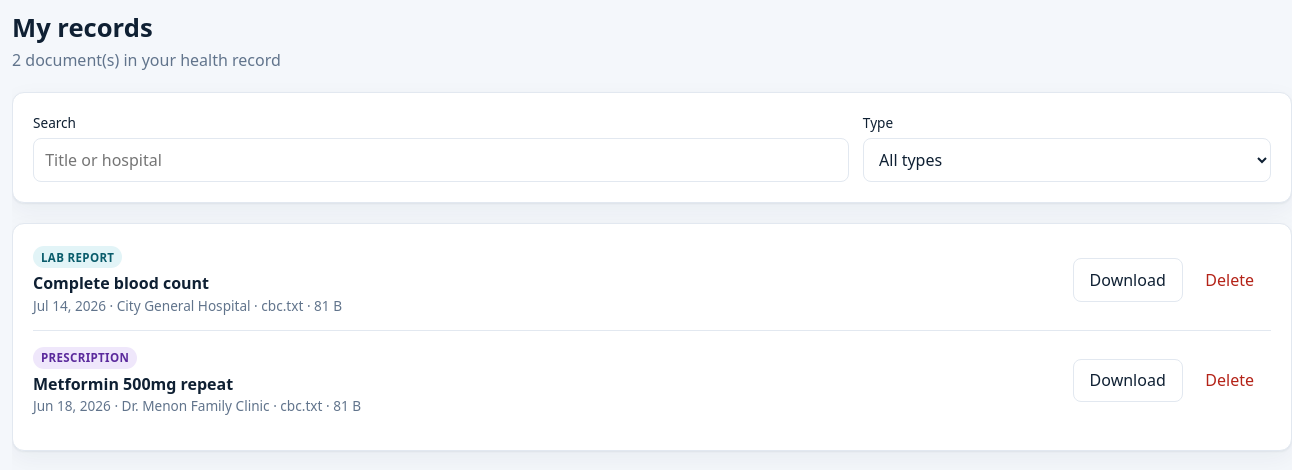
Test: RecordsPage › drops a deleted record from the list without refetching
The width and height of the screenshot is (1292, 470).
Check: the heading "Complete blood count" is shown, box [33,272,209,294]
Click the button "Delete" in the row of "Lab report". click: click(1230, 280)
box: [1188,258,1271,302]
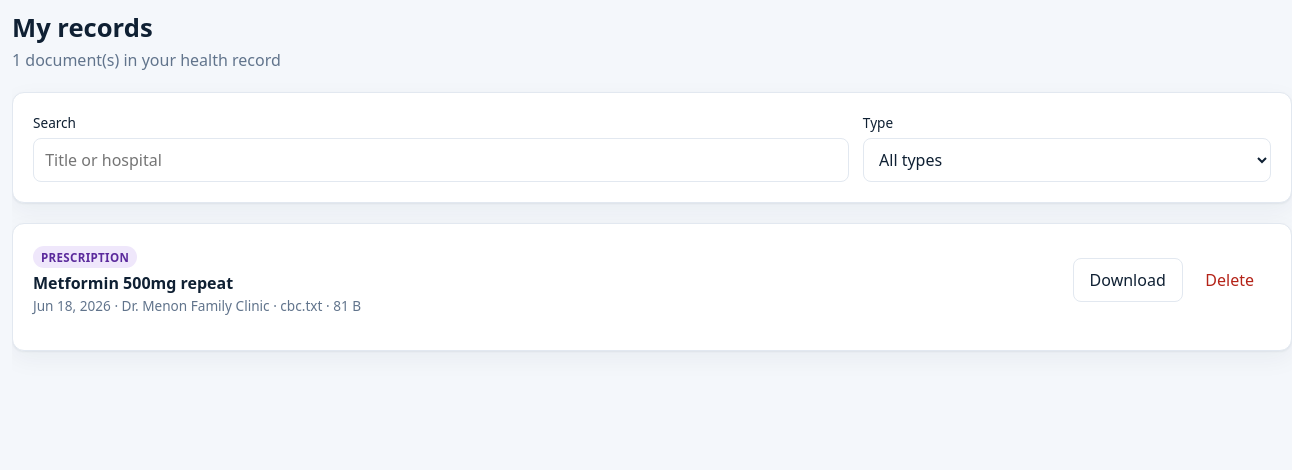
Check: the heading "Metformin 500mg repeat" is shown, box [33,272,233,294]
Check: the heading "Complete blood count" is gone
